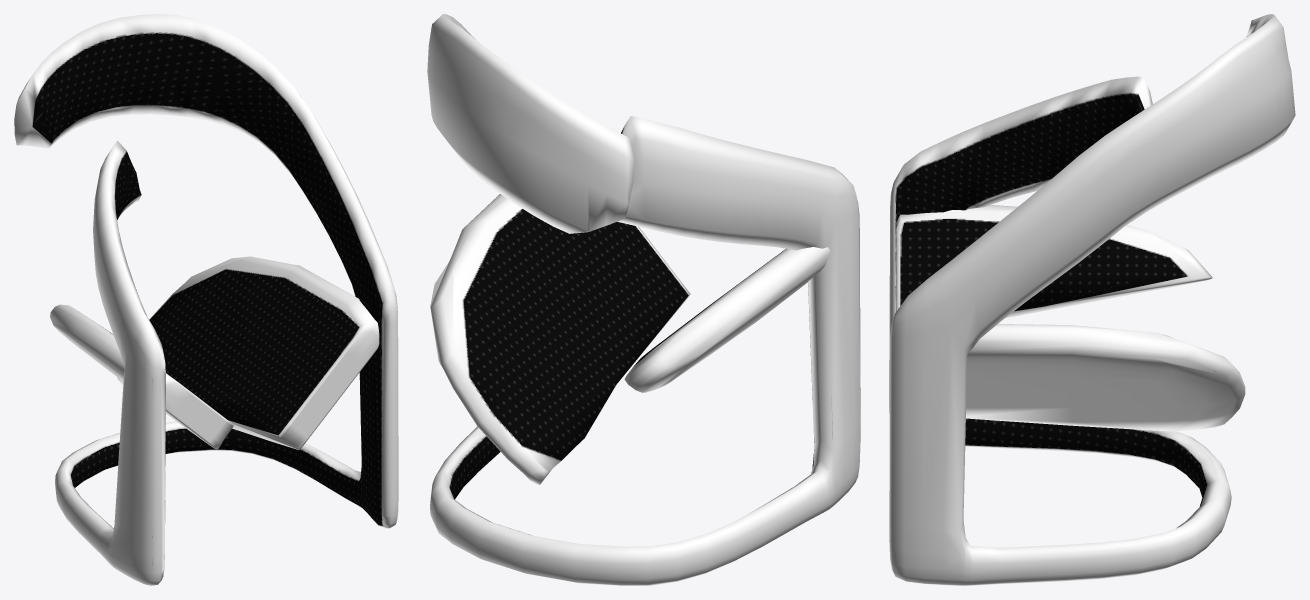
File: broken_chair1.fbx
3 views of the same model, side by side, from view 1: azimuth 30°, elevation 25°; view 2: azimuth 150°, elevation 25°; view 3: azimuth 270°, elevation 25° (orthographic). The views are drawn at different scales.
Visible parts, largest first — view 1: broken chair 1, Chair.004, Chair.003; view 2: broken chair 1, Chair.004, Chair.003; view 3: broken chair 1, Chair.004, Chair.003.
Boxes of the visible parts, <box> form: broken chair 1: <box>14,14,398,585</box>; Chair.004: <box>117,256,379,449</box>; Chair.003: <box>50,304,233,449</box>; broken chair 1: <box>427,14,860,585</box>; Chair.004: <box>430,194,690,484</box>; Chair.003: <box>624,247,830,392</box>; broken chair 1: <box>889,14,1295,585</box>; Chair.004: <box>966,324,1245,431</box>; Chair.003: <box>896,205,1212,318</box>.
Bounding box in the file's own units: 75.14 × 116 × 85.72.
2 materials, 2 textured.
